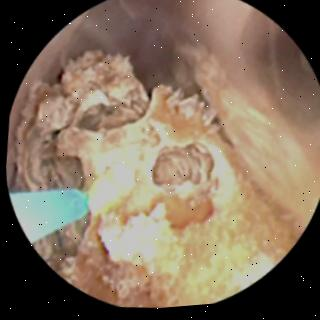fiber: (8, 190, 85, 241)
laser: (86, 173, 118, 214)
stone: (11, 49, 295, 307)
